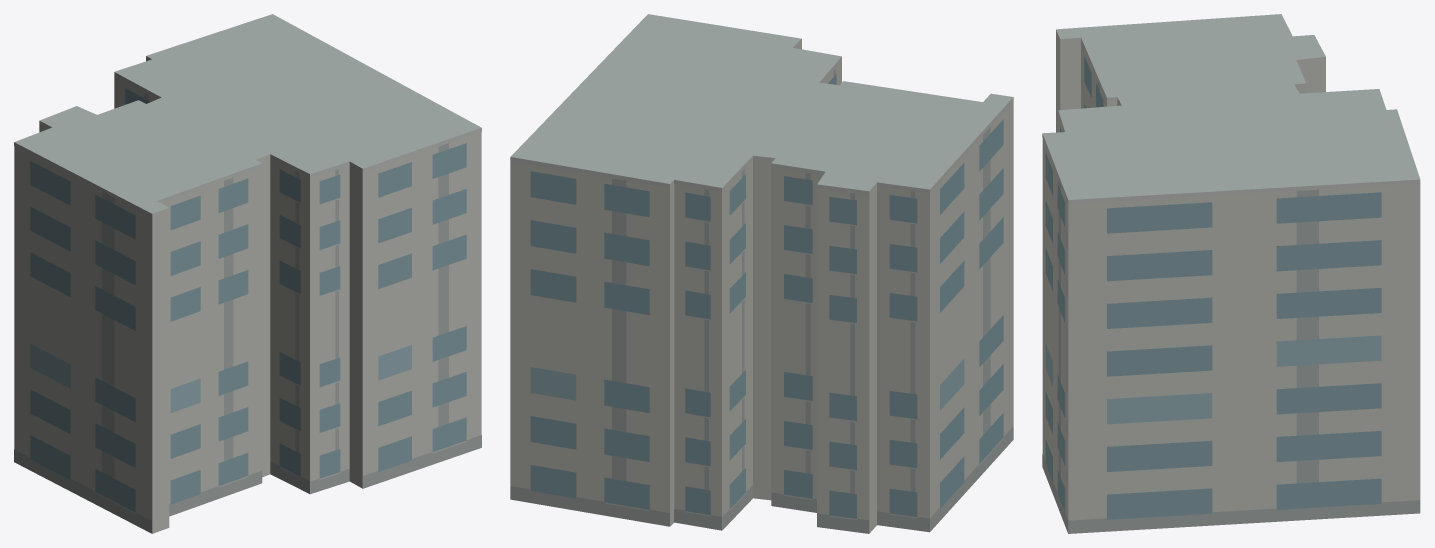
The model's file is survey-upis-32708622.glb.
3 views of the same model, side by side, from view 1: azimuth 30°, elevation 25°; view 2: azimuth 150°, elevation 25°; view 3: azimuth 270°, elevation 25° (orthographic). The views are drawn at different scales.
Parts seen in each view (by area): view 1: survey-upis-32708622.tmp; view 2: survey-upis-32708622.tmp; view 3: survey-upis-32708622.tmp.
Part boxes in pixels (x1=…): survey-upis-32708622.tmp: x1=14, y1=14, x2=481, y2=533; survey-upis-32708622.tmp: x1=510, y1=14, x2=1013, y2=533; survey-upis-32708622.tmp: x1=1042, y1=14, x2=1420, y2=533.
Bounding box in the file's own units: 23.2 × 19.4 × 19.92.
